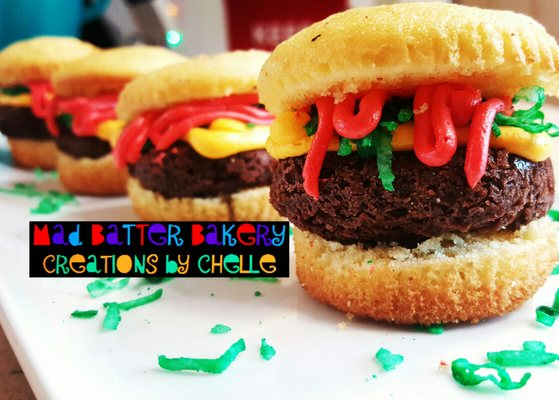soup: (257, 1, 559, 329), (1, 37, 189, 195), (112, 49, 282, 221)
